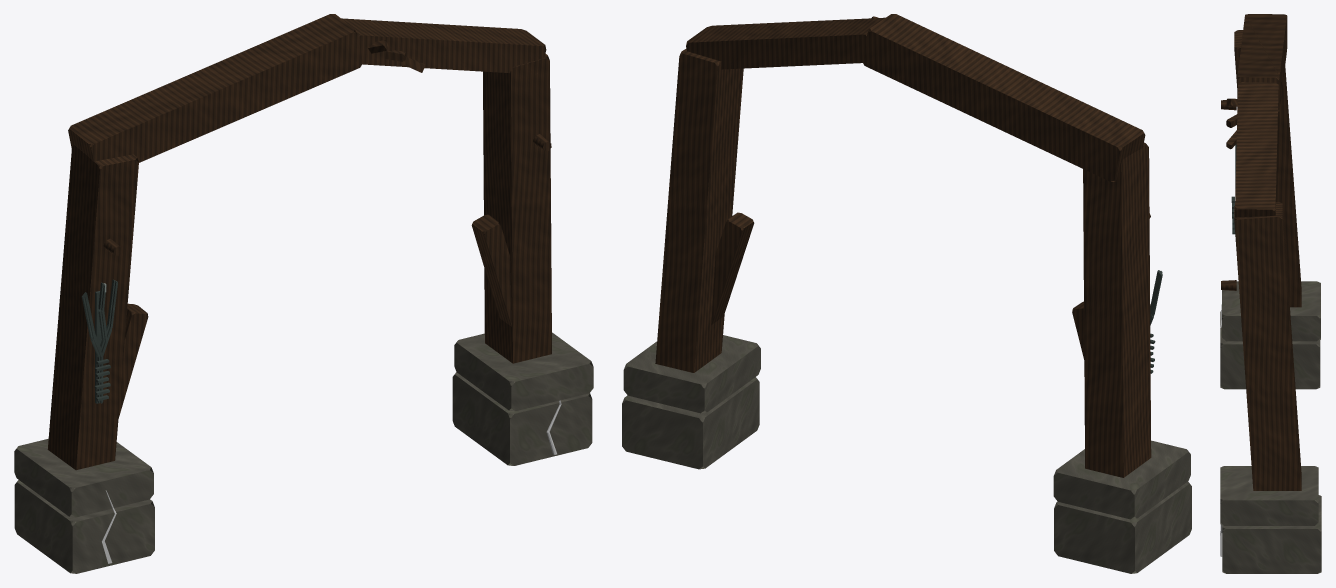
Rendered from cataclysm_rootvault_frame-lod2.gltf.
The picture shows the model from 3 angles, left to right: view 1: azimuth 30°, elevation 25°; view 2: azimuth 150°, elevation 25°; view 3: azimuth 270°, elevation 25°; orthographic projection. The views are drawn at different scales.
Visible parts, largest first — view 1: cataclysm_rootvault_frame LOD2 cataclysm_rootvault_frame; view 2: cataclysm_rootvault_frame LOD2 cataclysm_rootvault_frame; view 3: cataclysm_rootvault_frame LOD2 cataclysm_rootvault_frame.
Part boxes in pixels (left/top/right/bottom): cataclysm_rootvault_frame LOD2 cataclysm_rootvault_frame: left=14, top=14, right=593, bottom=573; cataclysm_rootvault_frame LOD2 cataclysm_rootvault_frame: left=622, top=14, right=1191, bottom=573; cataclysm_rootvault_frame LOD2 cataclysm_rootvault_frame: left=1220, top=14, right=1321, bottom=573.
Size of the model in its own units: 3.32 by 2.84 by 0.6514.
